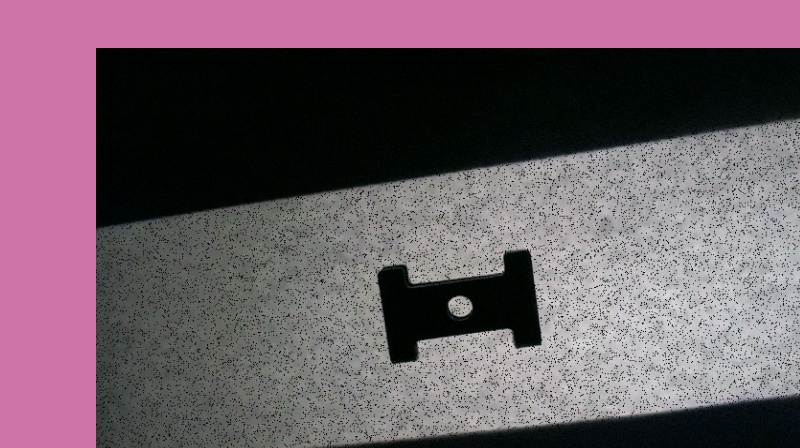O002: (371, 244, 544, 365)
